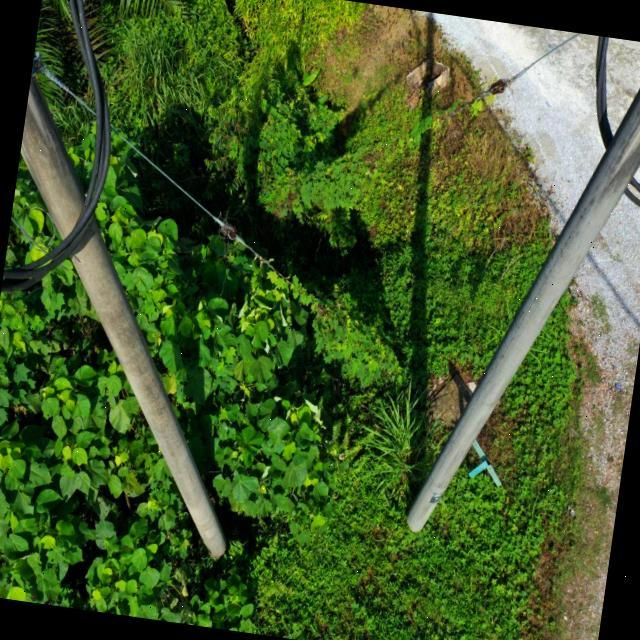critical vegetation: (242, 254, 420, 401)
